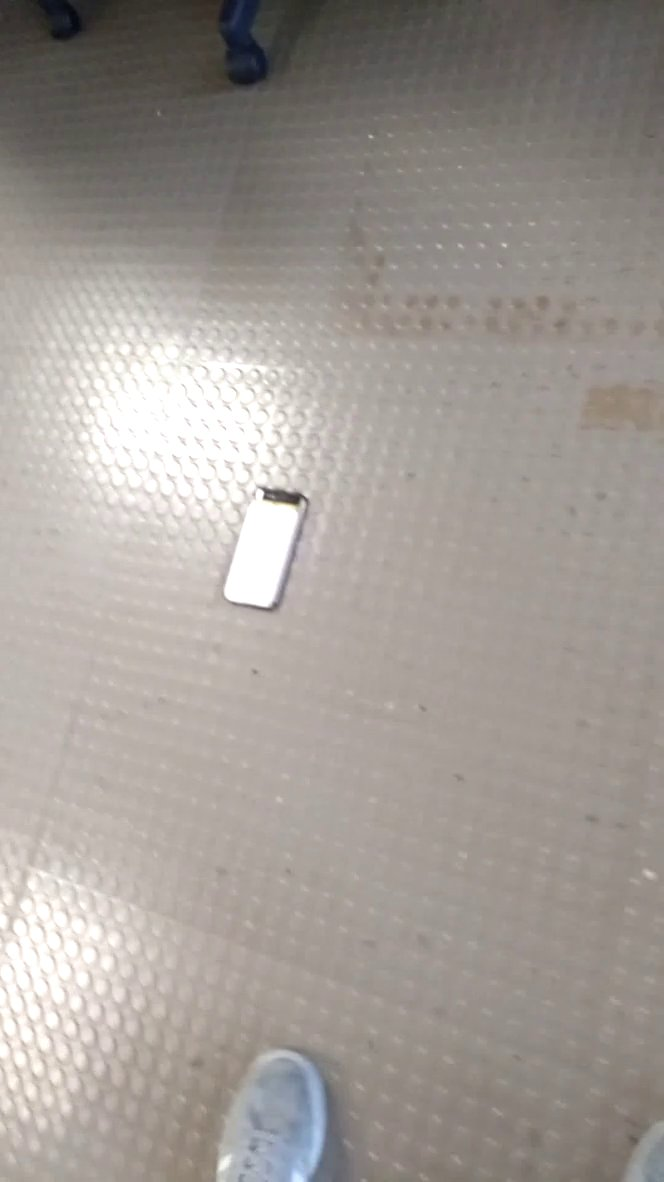phone: (213, 468, 329, 630)
